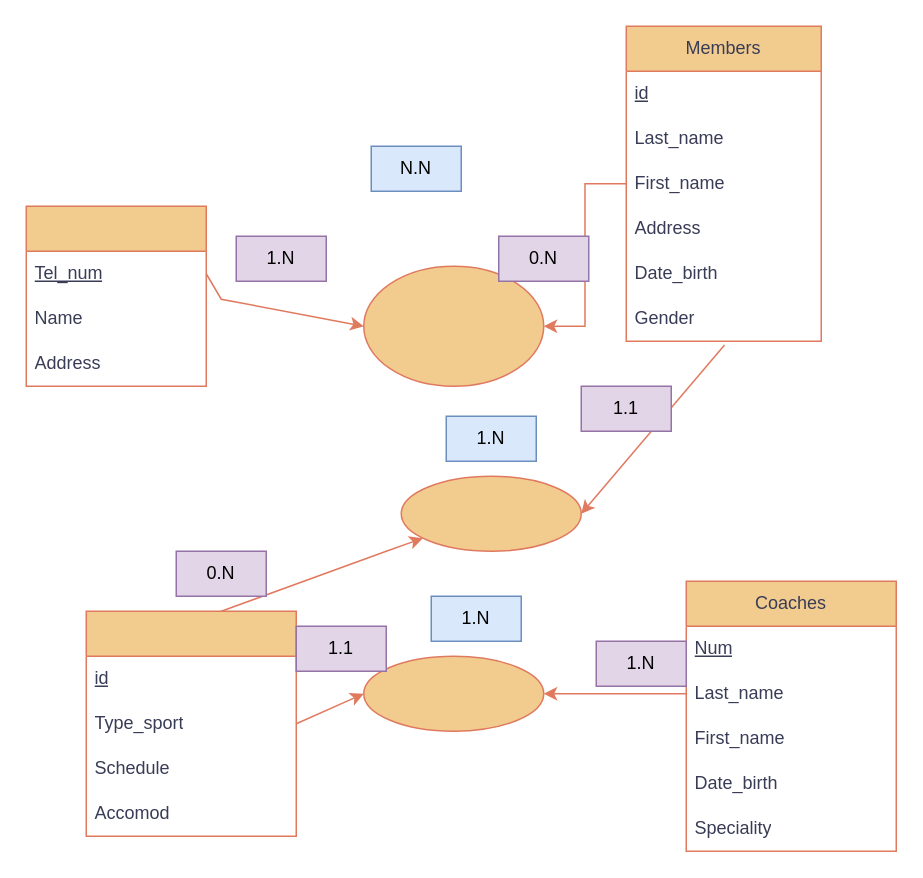
Image size: 923x878. Some labels were removed from this diagram. The box of each missing label's shape, as (x1, y1, x2, y2) in pixels:
Choice: (400, 475, 581, 551)
Coaching: (362, 655, 544, 731)
Gymnasiums: (25, 205, 206, 386)
Register: (362, 265, 544, 386)
Session: (85, 610, 296, 836)
